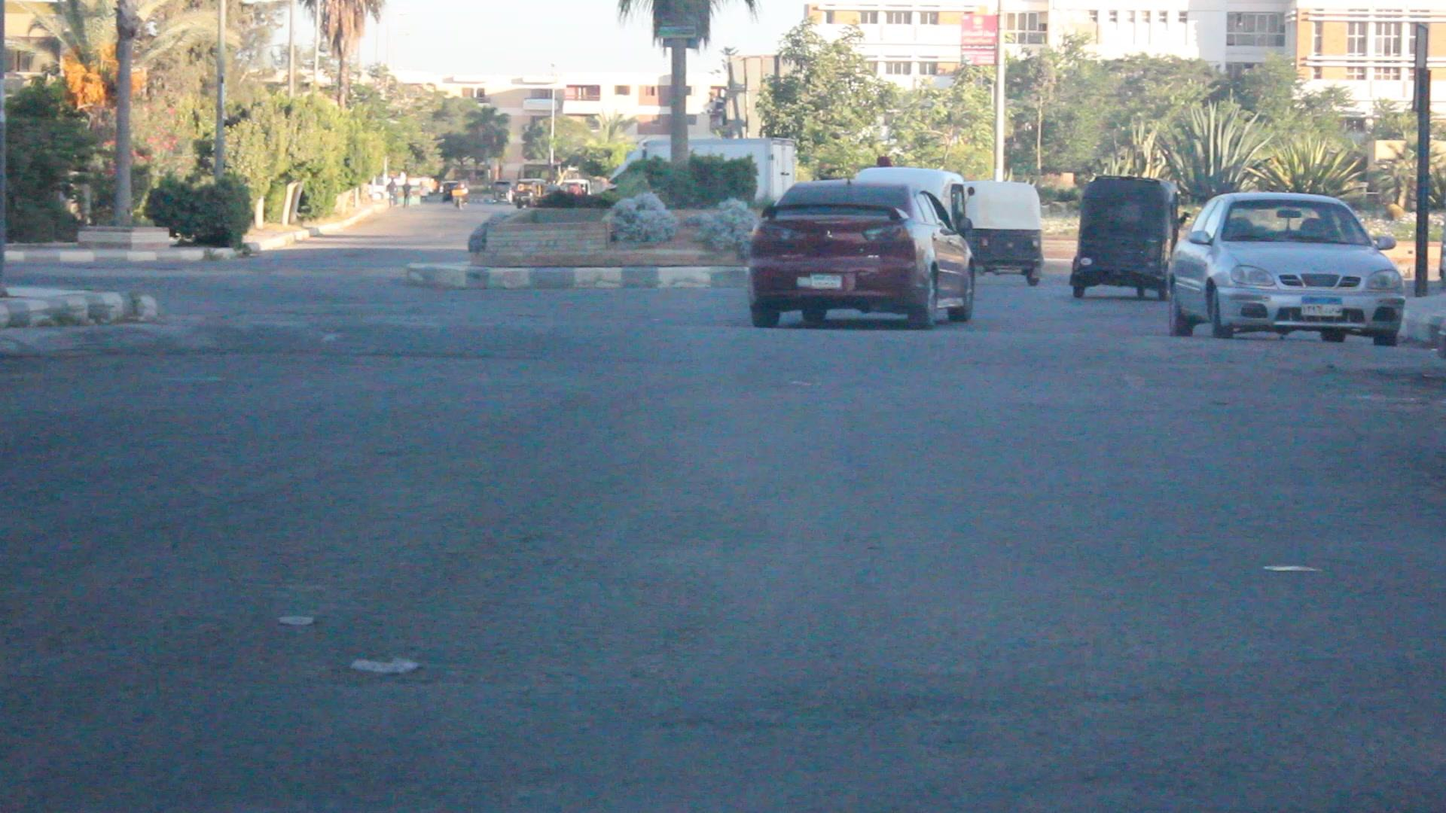Bump: (2, 303, 1446, 388)
